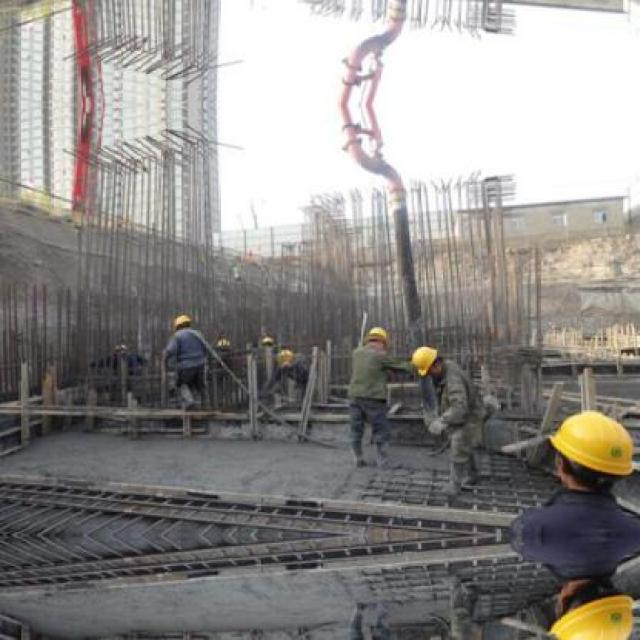helmet: (538, 402, 637, 493), (538, 575, 638, 637), (407, 343, 439, 377), (364, 322, 390, 348), (172, 314, 198, 335), (274, 349, 298, 368)
